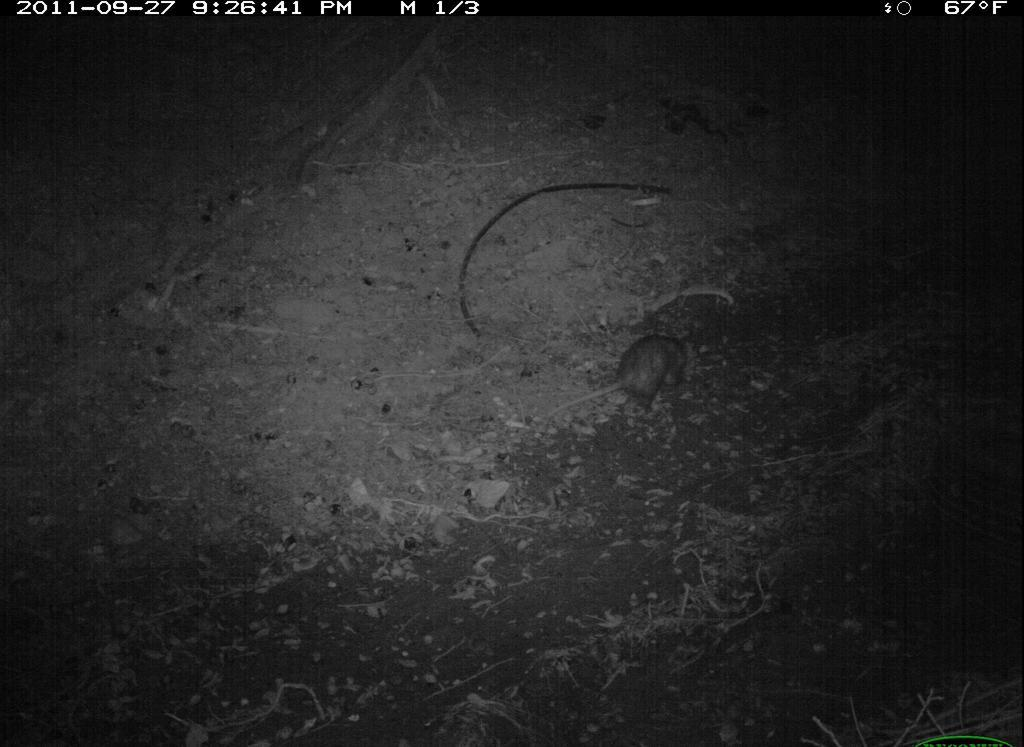opossum: (548, 317, 707, 441)
